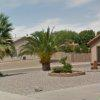Palm tree: (30, 25, 56, 74)
